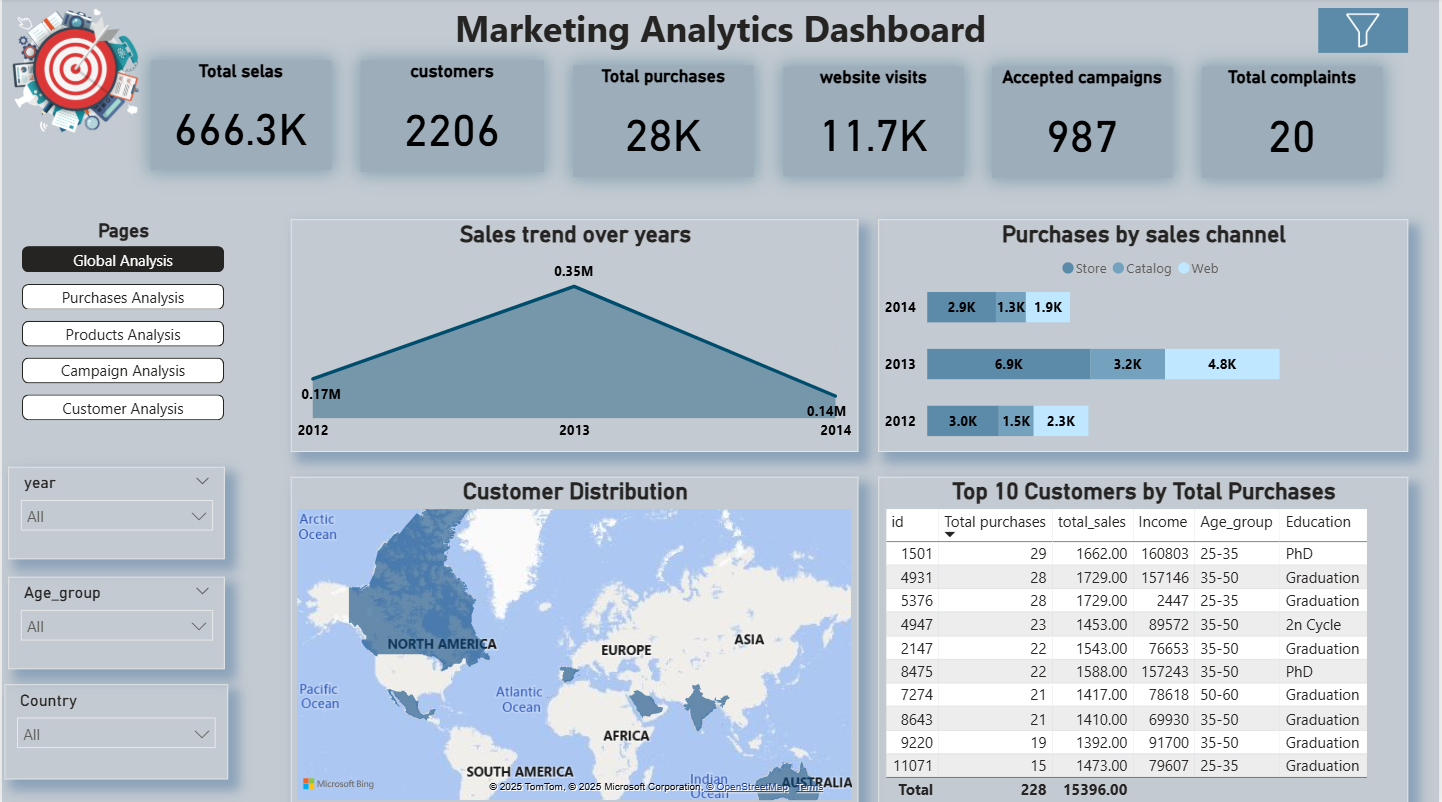

This screenshot's page, from the dashboard's own definition file:
{"tool":"powerbi","page":{"name":"Global Analysis","canvas":[1280,720],"ordinal":0},"visuals":[{"type":"textbox","box":[0,0,1280,55.5],"z":0},{"type":"card","title":" customers ","fields":{"Values":["dax masuers.total_customers"]},"box":[319.5,55.5,162.9,98.9],"z":1000},{"type":"card","title":"Total selas","fields":{"Values":["dax masuers.total_sales"]},"box":[132.7,55.5,160.5,97.7],"z":2000},{"type":"card","title":"Total purchases","fields":{"Values":["dax masuers.Total purchases"]},"box":[508.6,60.3,160.5,98.9],"z":3000},{"type":"card","title":"Accepted campaigns ","fields":{"Values":["dax masuers.Total Accepted campaigns"]},"box":[882.1,61.5,160.5,98.9],"z":4000},{"type":"card","title":"Total complaints","fields":{"Values":["dax masuers.Total complaints"]},"box":[1068.9,61.5,160.5,98.9],"z":5000},{"type":"areaChart","title":"Sales trend over years","fields":{"Category":["DATA DIM.year"],"Y":["dax masuers.total_sales"]},"box":[257,196.6,505.5,207.5],"z":6000},{"type":"barChart","title":"Purchases by sales channel","fields":{"Category":["DATA DIM.year"],"Y":["Sum(marketing_table.NumStorePurchases)","Sum(marketing_table.NumCatalogPurchases)","Sum(marketing_table.NumWebPurchases)"]},"box":[780.6,196.6,471.7,207.5],"z":7000},{"type":"tableEx","title":"Top 10 Customers by Total Purchases","fields":{"Values":["marketing_table.id","dax masuers.Total purchases","dax masuers.total_sales","marketing_table.Income","marketing_table.Age_group","marketing_table.Education"]},"box":[780.6,425.9,471.7,294.4],"z":8000},{"type":"filledMap","title":"Customer Distribution","fields":{"Category":["marketing_table.Country"]},"box":[257,425.9,505.5,294.4],"z":9000},{"type":"pageNavigator","title":"Pages","box":[18.1,196.6,181,182.2],"z":10000},{"type":"slicer","fields":{"Values":["DATA DIM.year"]},"box":[6,417.4,193,82],"z":11000},{"type":"slicer","fields":{"Values":["marketing_table.Age_group"]},"box":[6,515.2,193,82],"z":12000},{"type":"slicer","fields":{"Values":["marketing_table.Country"]},"box":[2.4,611.7,199.1,84.5],"z":13000},{"type":"image","box":[1172.7,8.4,79.6,39.8],"z":14000},{"type":"card","title":"website visits","fields":{"Values":["dax masuers.Total website visits"]},"box":[695.4,61.5,160.5,97.7],"z":15000},{"type":"image","box":[0,0,132.7,132.7],"z":16000}]}

Visuals, with their boxes in screenshot pixels (x1, y1, x2, y2), scaled from the page's 1280x720 canvas onto the 1442x802 screenshot:
textbox: 0/0/1441/62
" customers " card: 360/62/543/172
"Total selas" card: 149/62/330/171
"Total purchases" card: 573/67/754/177
"Accepted campaigns " card: 994/69/1175/179
"Total complaints" card: 1204/69/1385/179
"Sales trend over years" areaChart: 290/219/859/450
"Purchases by sales channel" barChart: 879/219/1411/450
"Top 10 Customers by Total Purchases" tableEx: 879/474/1411/801
"Customer Distribution" filledMap: 290/474/859/801
"Pages" pageNavigator: 20/219/224/422
slicer - DATA DIM.year: 7/465/224/556
slicer - marketing_table.Age_group: 7/574/224/665
slicer - marketing_table.Country: 3/681/227/775
image: 1321/9/1411/54
"website visits" card: 783/69/964/177
image: 0/0/149/148
